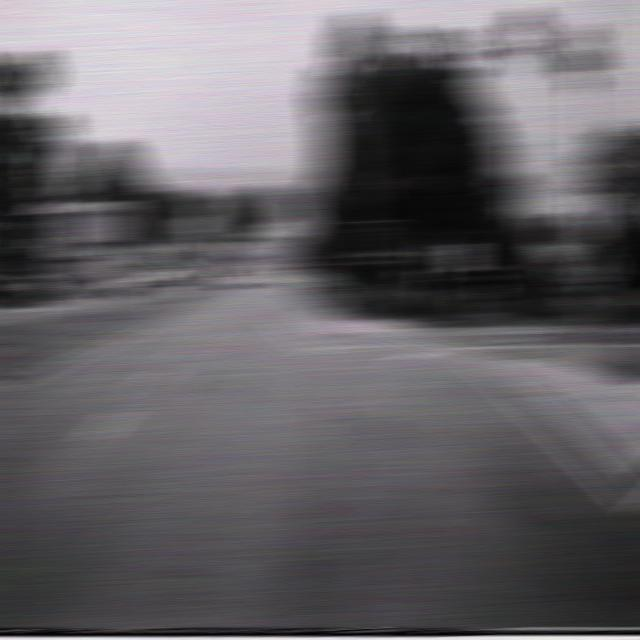pedestrianCrossing: (575, 244, 617, 295)
